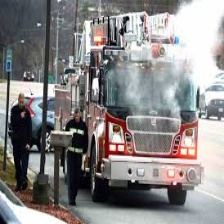smoke: (146, 5, 214, 109)
